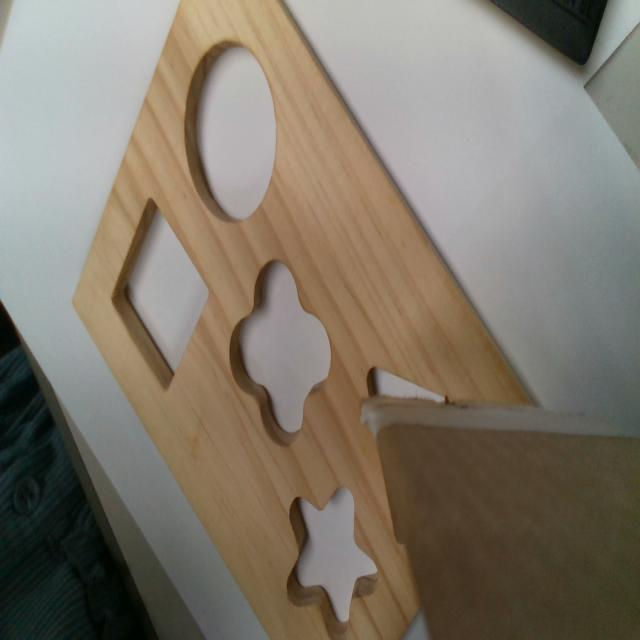circle: (181, 41, 276, 223)
flower: (228, 264, 331, 448)
square: (111, 196, 211, 394)
star: (287, 488, 378, 636)
triangle: (364, 365, 458, 405)
